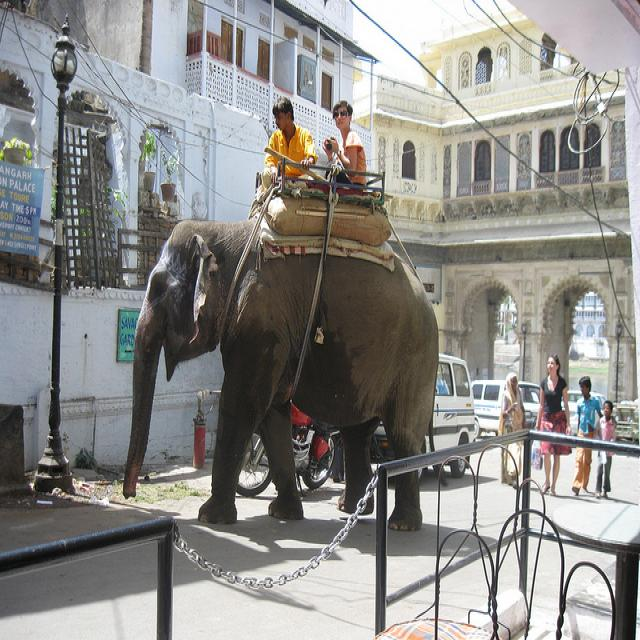motor: (237, 402, 341, 498)
